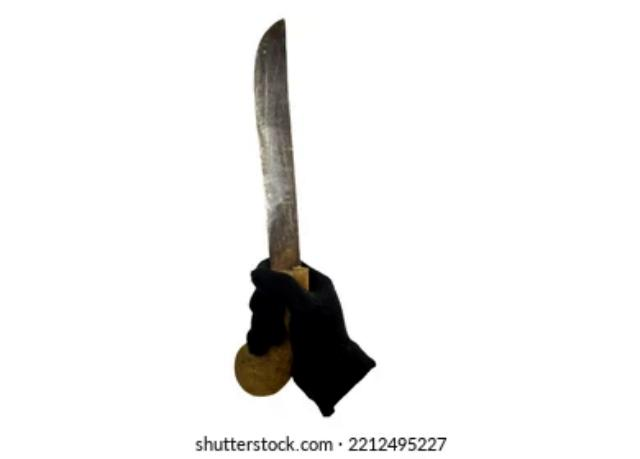long knife: (242, 20, 318, 274)
